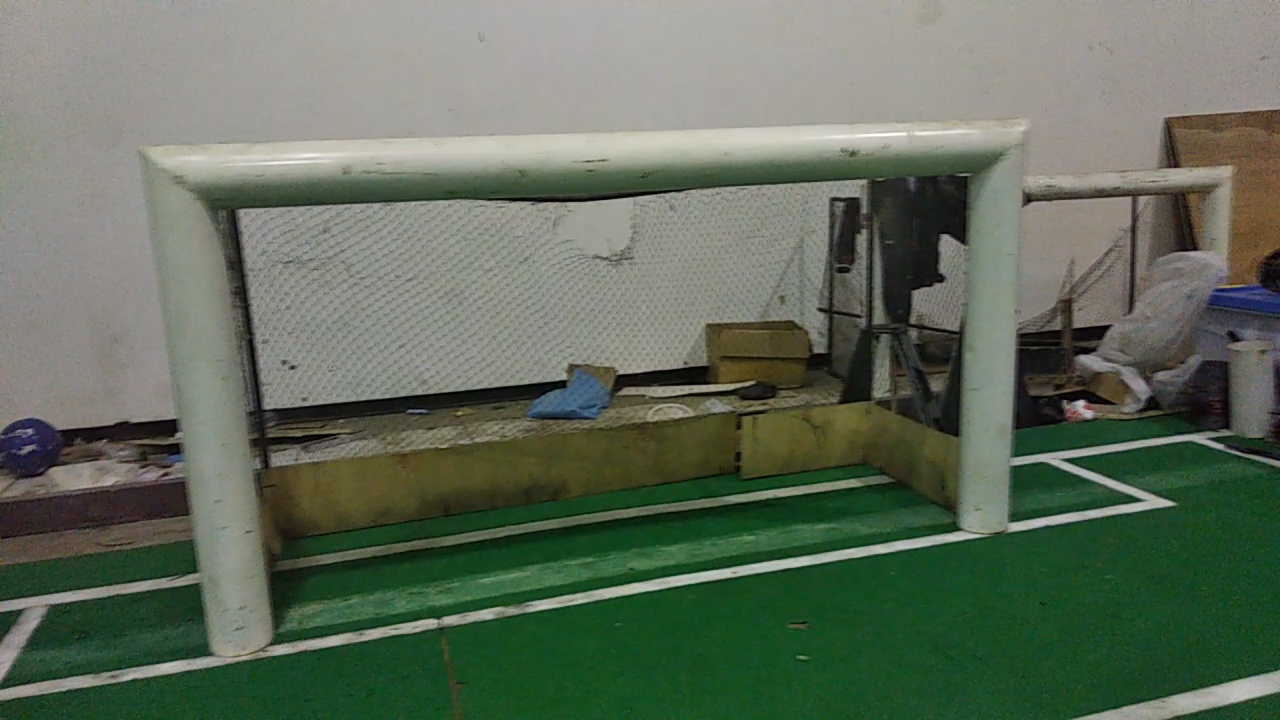gawang: (126, 99, 1042, 672)
